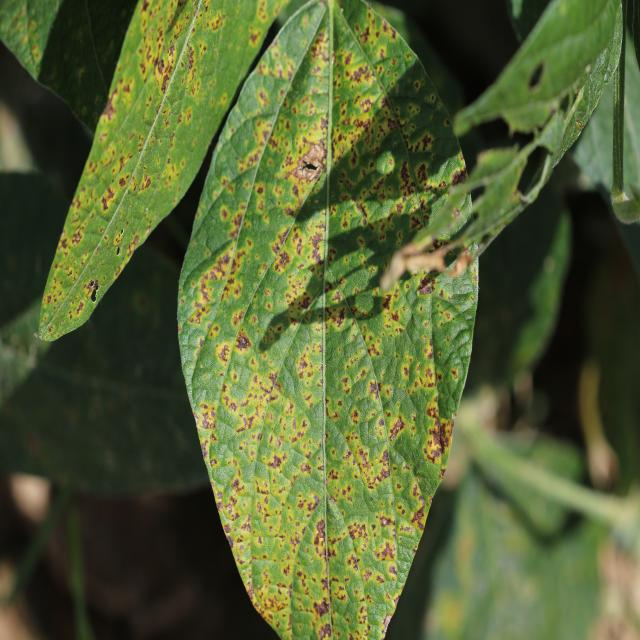Bacterial_Blight: (392, 238, 465, 291), (186, 267, 219, 312), (297, 136, 326, 184), (276, 227, 309, 267), (261, 578, 290, 620), (306, 497, 336, 536), (345, 46, 368, 94), (273, 437, 303, 471), (611, 193, 640, 224), (225, 234, 244, 279), (228, 155, 250, 189), (528, 62, 547, 93), (83, 277, 102, 306), (101, 94, 116, 122), (378, 540, 396, 561), (389, 417, 404, 440), (235, 332, 251, 351), (440, 427, 450, 455), (315, 599, 330, 617), (323, 78, 335, 100), (268, 371, 280, 392), (369, 380, 381, 399), (451, 204, 463, 220), (575, 120, 584, 132)
Soybean: (177, 0, 478, 639), (41, 84, 204, 337)
